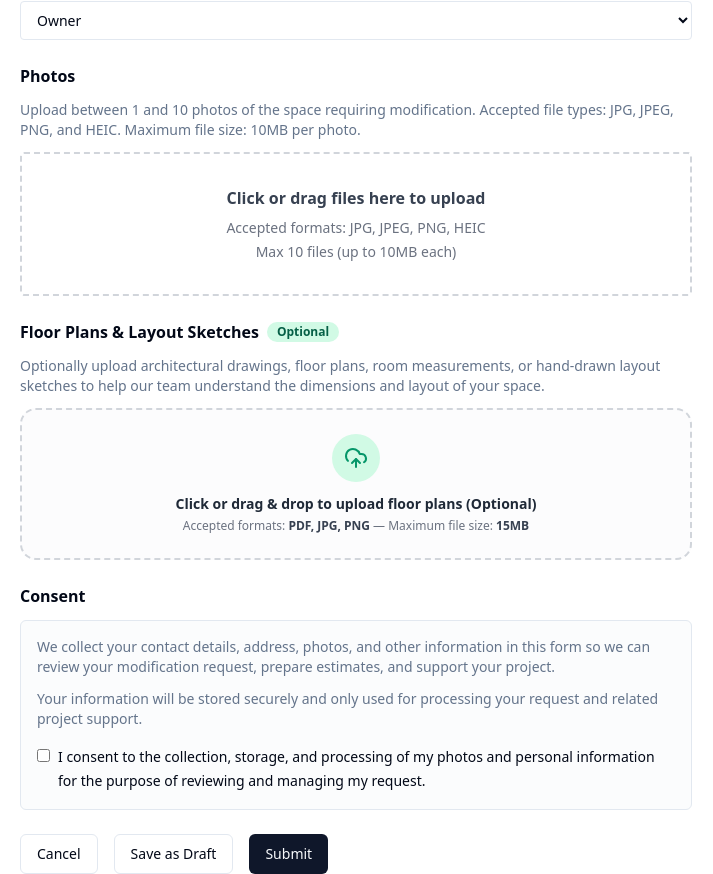
Test: IntakeForm › shows validation errors when required fields are empty and form is submitted
(page scrolled)
Click the button "Submit".
click(289, 854)  # box [249,834,328,873]
(page scrolled)
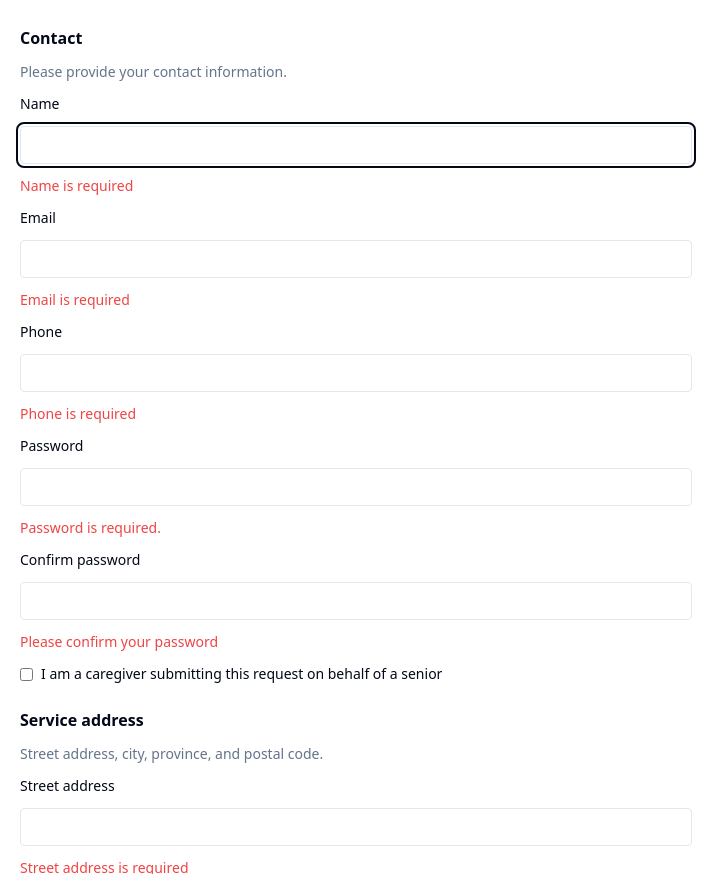
Check: the text "Name is required" is shown, box [20,176,133,195]
Check: the text "Email is required" is shown, box [20,290,130,309]
Check: the text "Phone is required" is shown, box [20,404,136,423]
